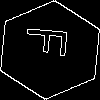F: (25, 25, 78, 59)
